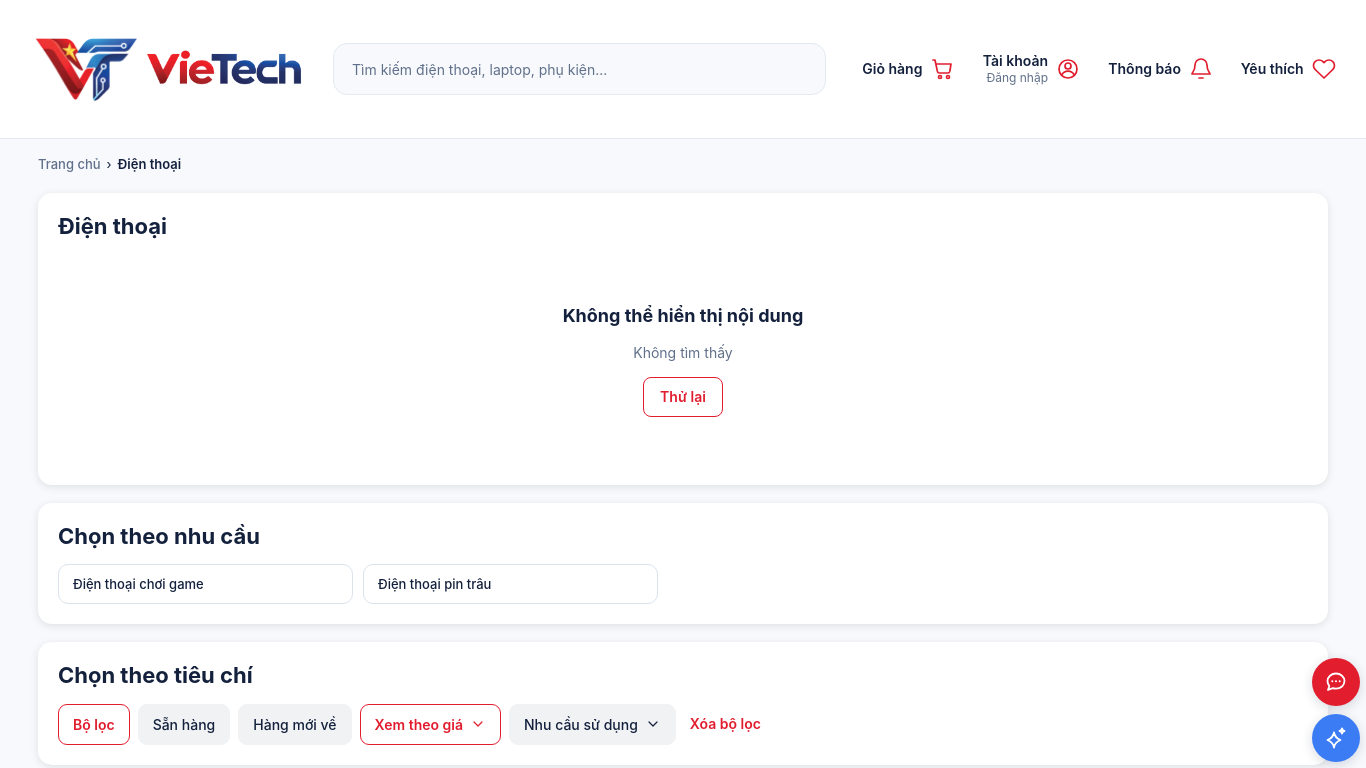
it: child category cards navigate to the selected product group and reset old filters and page
Click the link "Điện thoại pin trâu".
click(435, 584)  # box [363, 564, 658, 604]
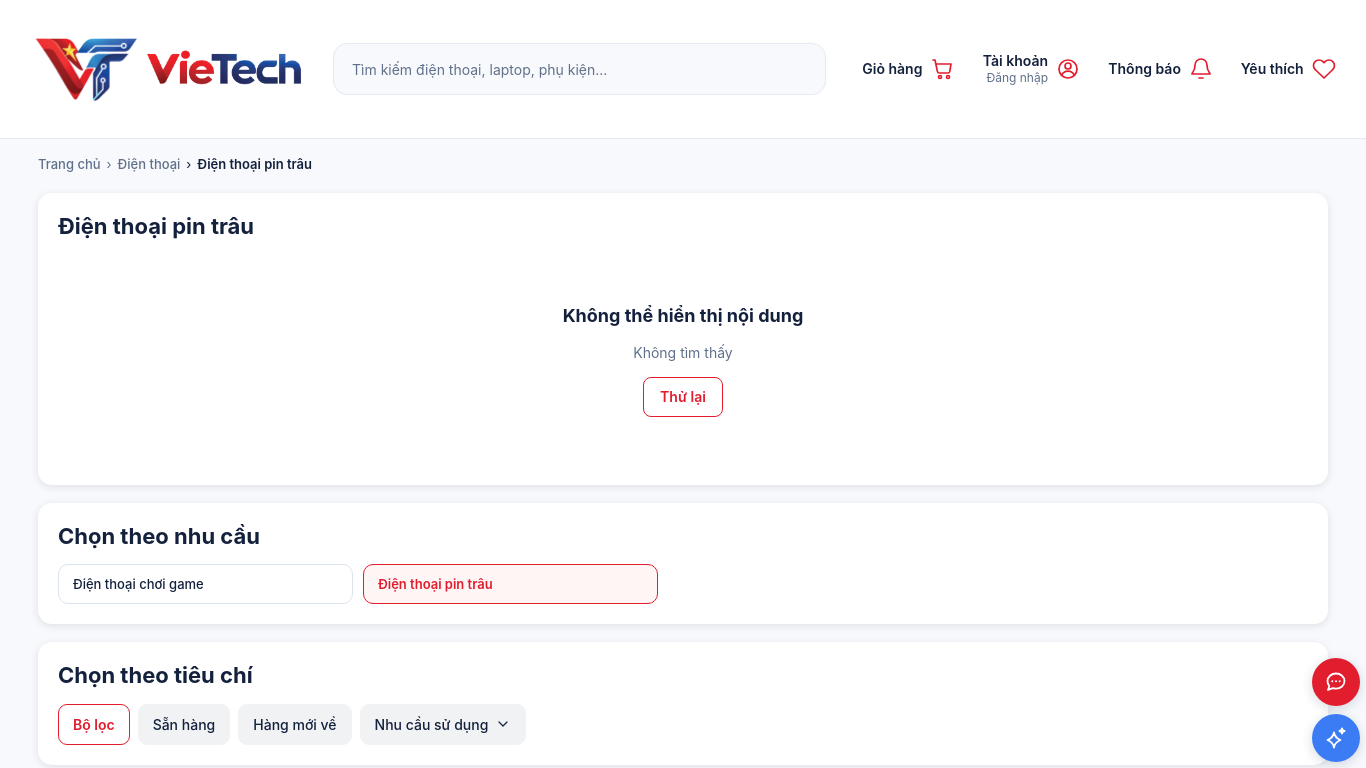
Check: the heading "Điện thoại pin trâu" is shown, box [58, 212, 254, 238]
